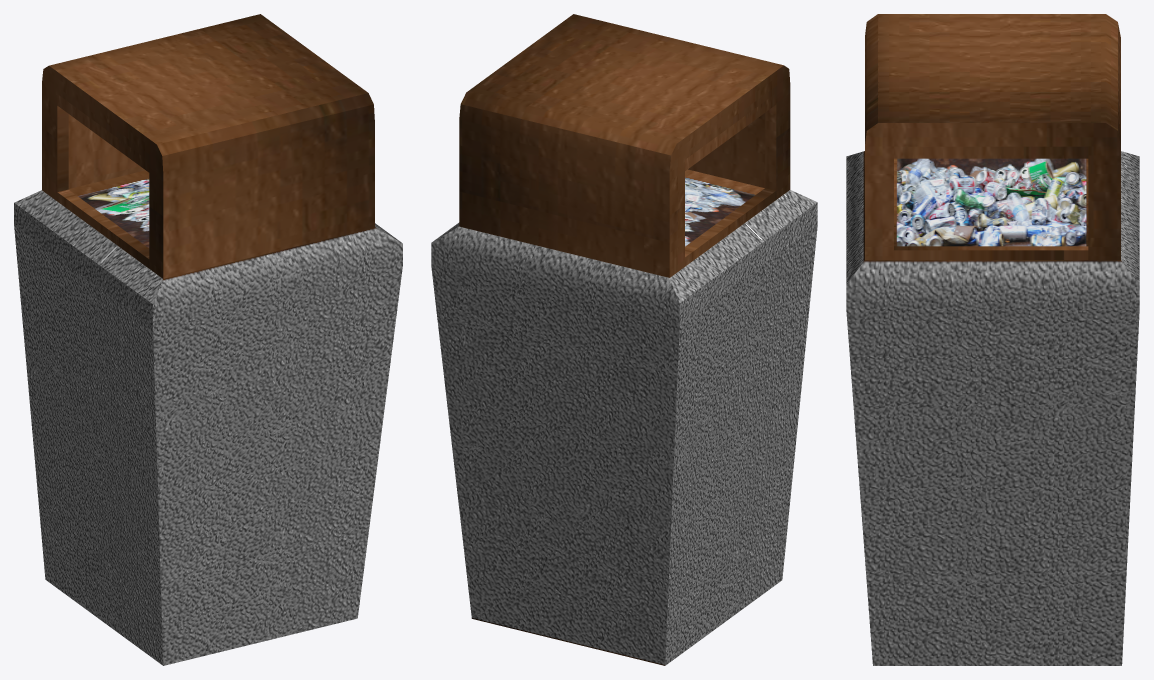
The model's file is Garbage Can.fbx.
3 views of the same model, side by side, from view 1: azimuth 30°, elevation 25°; view 2: azimuth 150°, elevation 25°; view 3: azimuth 270°, elevation 25° (orthographic). The views are drawn at different scales.
Visible parts, largest first — view 1: G_GarbageCan:pCube3; view 2: G_GarbageCan:pCube3; view 3: G_GarbageCan:pCube3.
Part boxes in pixels (left/top/right/bottom): G_GarbageCan:pCube3: left=14, top=14, right=402, bottom=665; G_GarbageCan:pCube3: left=431, top=14, right=817, bottom=665; G_GarbageCan:pCube3: left=846, top=14, right=1139, bottom=665.
Size of the model in its own units: 3.83 by 7.61 by 3.68.
